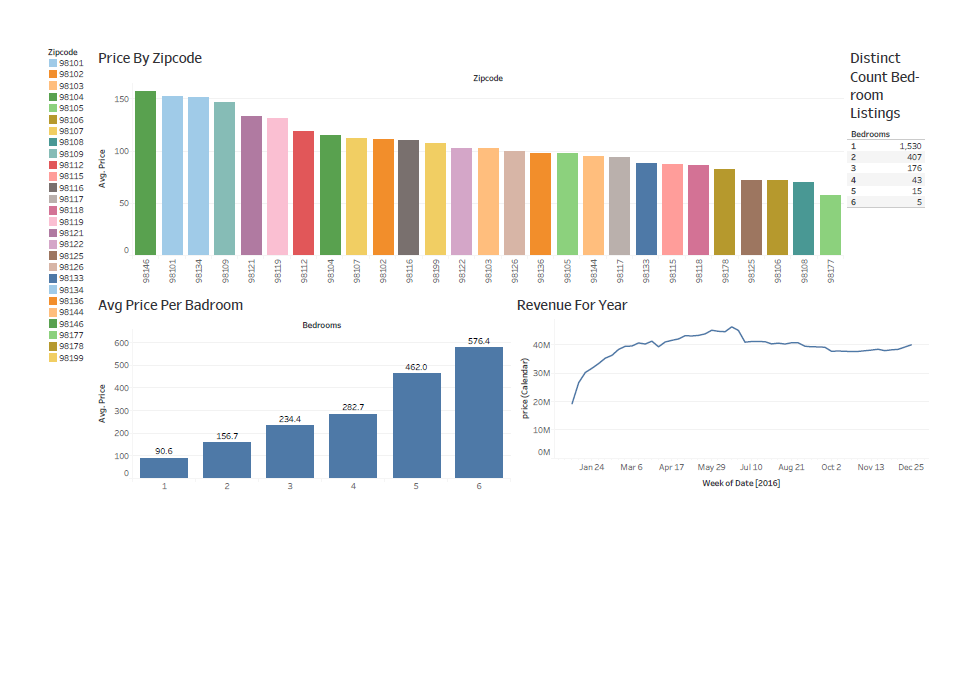

This screenshot's page, from the dashboard's own definition file:
{"tool":"tableau","page":{"name":"Dashboard 1","canvas":[1000,1000],"units":"permille","ordinal":0},"visuals":[{"type":"legend","title":"Sheet 1","param":"[federated.0s3n2fc05utrqh15wg01g1341l9v].[none:zipcode:ok]","box":[4.8,9.4,54.3,981.2]},{"type":"worksheet","title":"Sheet 1","mark":"Automatic","rows":["price"],"cols":["zipcode"],"box":[59.1,9.4,840.1,537]},{"type":"worksheet","title":"Sheet 5","mark":"Automatic","rows":["bedrooms"],"box":[899.2,9.4,96,537]},{"type":"worksheet","title":"Sheet 4","mark":"Automatic","rows":["price"],"cols":["bedrooms"],"box":[59.1,546.4,468,444.2]},{"type":"worksheet","title":"Sheet 3","mark":"Automatic","rows":["price (Calendar)"],"cols":["date"],"box":[527.2,546.4,468,444.2]}]}

Visuals, with their boxes on the dashboard's canvas, which has no fixed pixel size, in thousandths of its width and height (x1, y1, x2, y2). These are canvas units, not pixel positions in the 976x686 screenshot, which may show the page scaled, cropped or inside an application window:
"Sheet 1" legend: region(5, 9, 59, 991)
"Sheet 1" worksheet: region(59, 9, 899, 546)
"Sheet 5" worksheet: region(899, 9, 995, 546)
"Sheet 4" worksheet: region(59, 546, 527, 991)
"Sheet 3" worksheet: region(527, 546, 995, 991)
